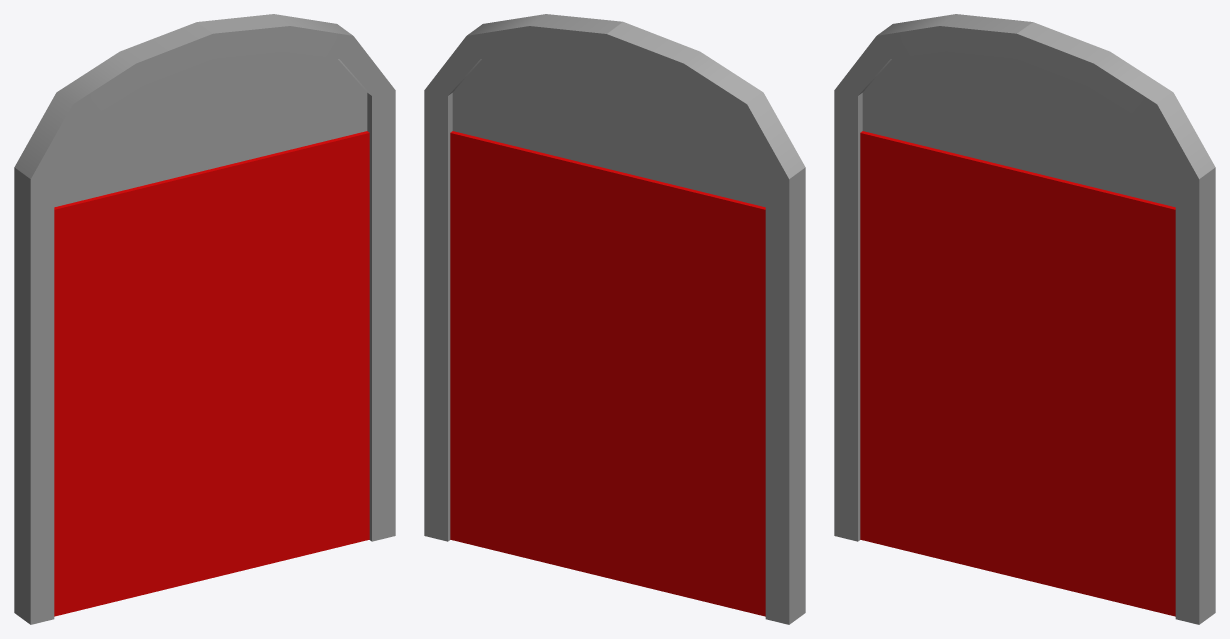
Rendered from Red Gate.fbx.
The picture shows the model from 3 angles, left to right: view 1: azimuth 30°, elevation 25°; view 2: azimuth 150°, elevation 25°; view 3: azimuth 330°, elevation 25°; orthographic projection.
Visible parts, largest first — view 1: pCube6; view 2: pCube6; view 3: pCube6.
Part boxes in pixels (x1=…): pCube6: x1=14, y1=14, x2=395, y2=624; pCube6: x1=424, y1=14, x2=805, y2=624; pCube6: x1=834, y1=14, x2=1215, y2=624.
Bounding box in the file's own units: 4.69 × 6.72 × 0.3681.
